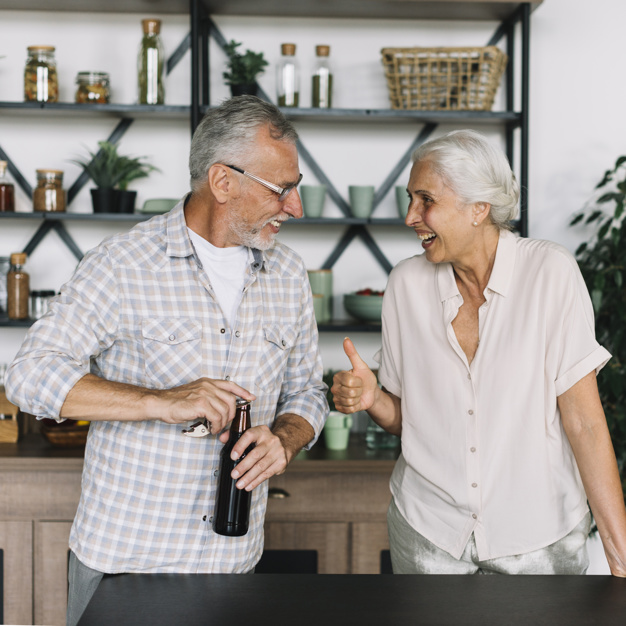thumbsup: (330, 336, 365, 414)
